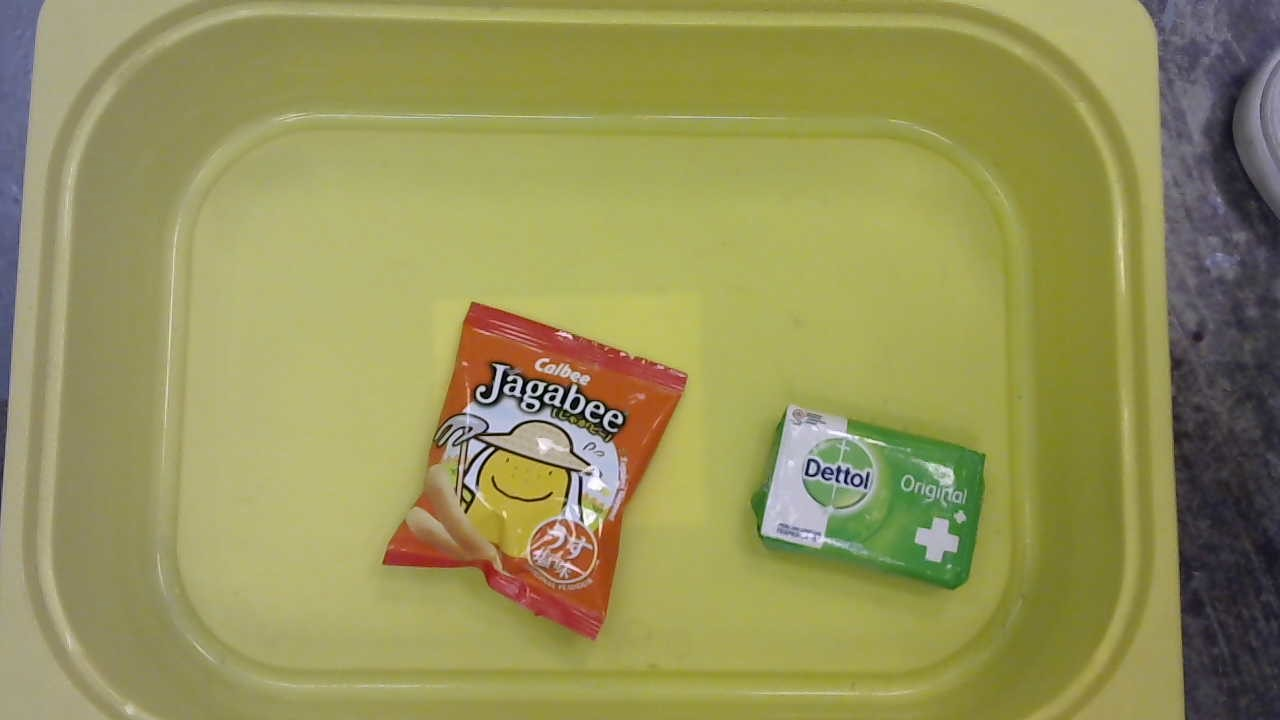Dettol: (746, 397, 991, 597)
JagabeeFarmer: (380, 297, 688, 642)
